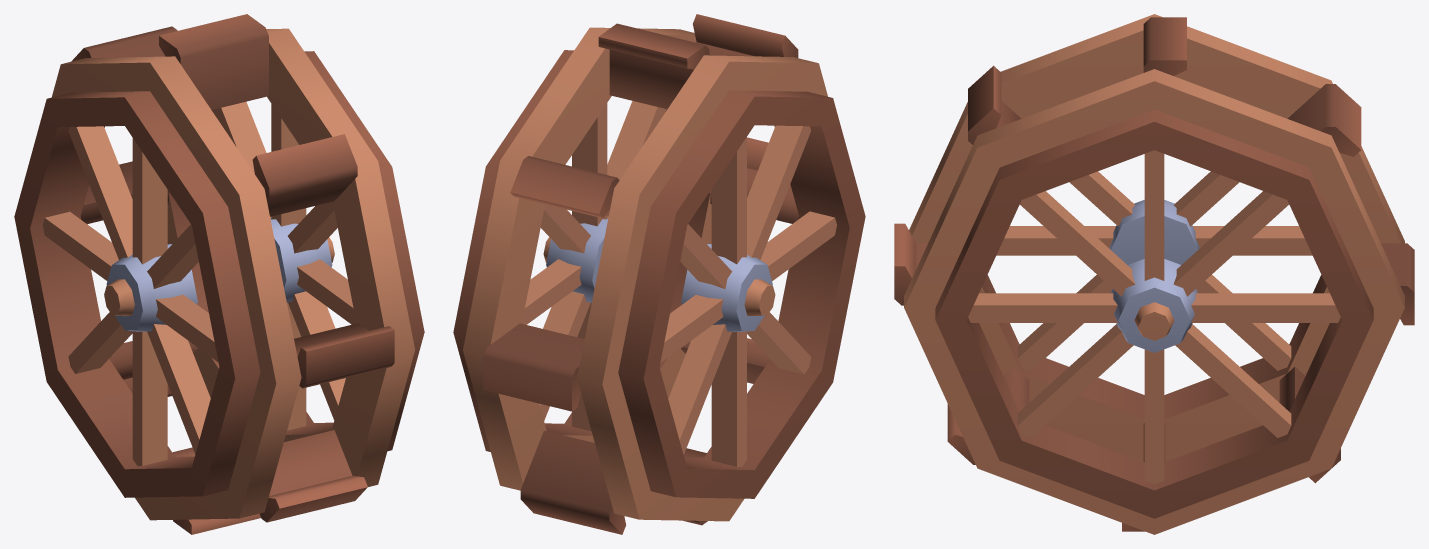
Rendered from watermill_lev1.glb.
3 views of the same model, side by side, from view 1: azimuth 30°, elevation 25°; view 2: azimuth 150°, elevation 25°; view 3: azimuth 270°, elevation 25° (orthographic).
Visible parts, largest first — view 1: watermill_lev1; view 2: watermill_lev1; view 3: watermill_lev1.
Boxes of the visible parts, x1,y1,x2,y2 form: watermill_lev1: (14, 14, 424, 534); watermill_lev1: (453, 14, 865, 534); watermill_lev1: (894, 14, 1414, 534).
Bounding box in the file's own units: 2.74 × 5.79 × 5.79.
Materials: 1 (1 with a texture image).
